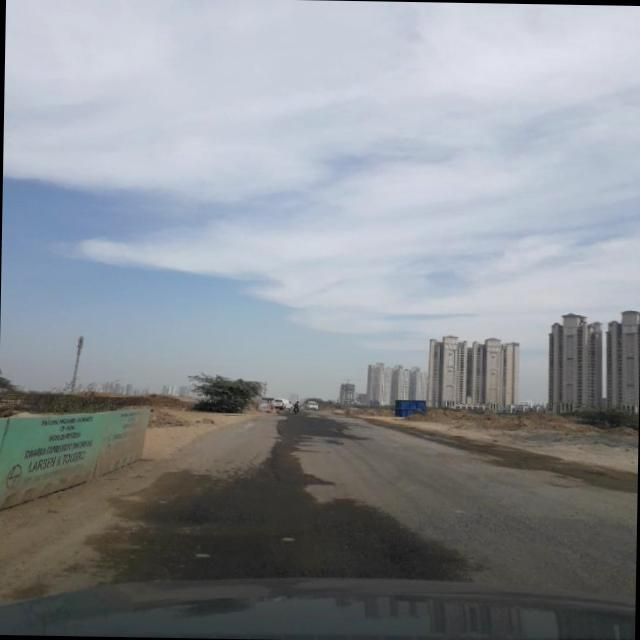pothole: (260, 411, 284, 489)
